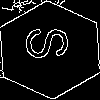S: (25, 25, 79, 61)
